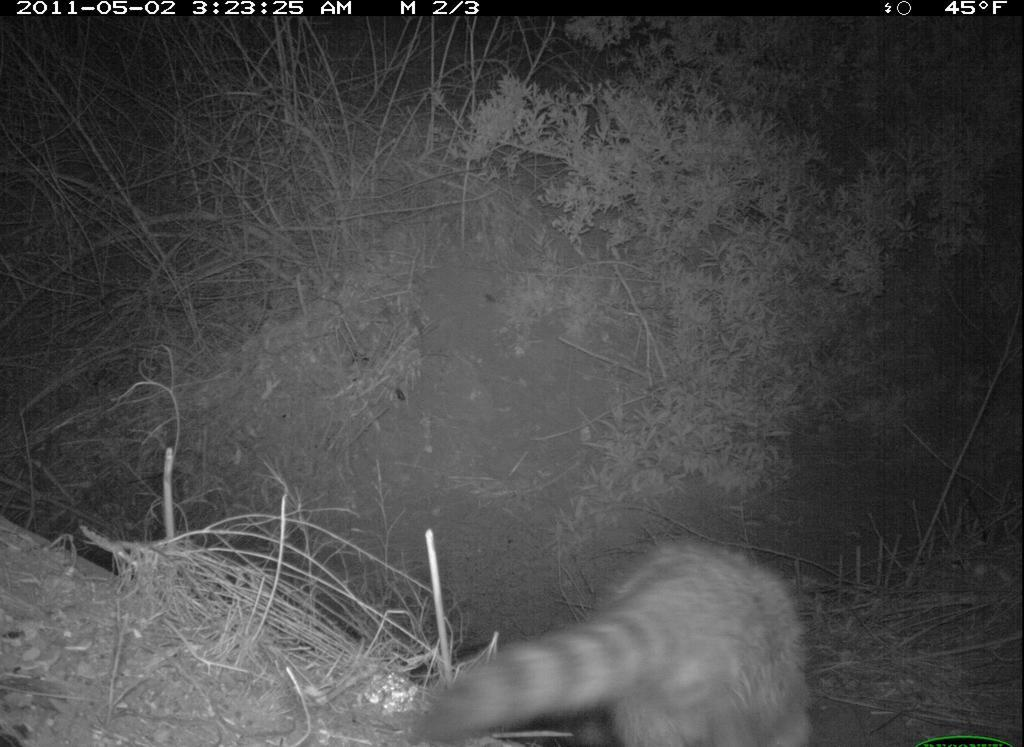raccoon: (413, 521, 835, 747)
